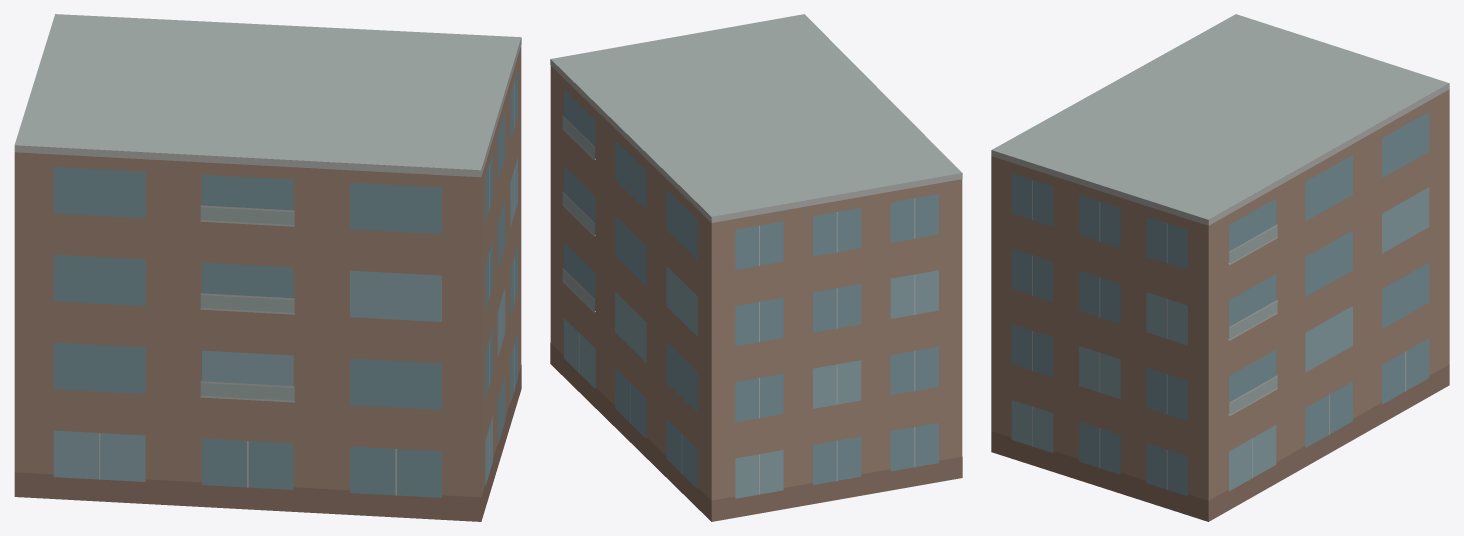
File: survey-upis-33023871.glb
3 renders of one model, left to right at view 1: azimuth 30°, elevation 25°; view 2: azimuth 150°, elevation 25°; view 3: azimuth 270°, elevation 25°, orthographic. The views are drawn at different scales.
Visible parts, largest first — view 1: survey-upis-33023871.tmp; view 2: survey-upis-33023871.tmp; view 3: survey-upis-33023871.tmp.
Part boxes in pixels (x1,y1,x2,y2): survey-upis-33023871.tmp: [14, 14, 521, 521]; survey-upis-33023871.tmp: [550, 14, 962, 521]; survey-upis-33023871.tmp: [991, 14, 1449, 521].
Size of the model in its own units: 17.84 by 12.2 by 16.78.
